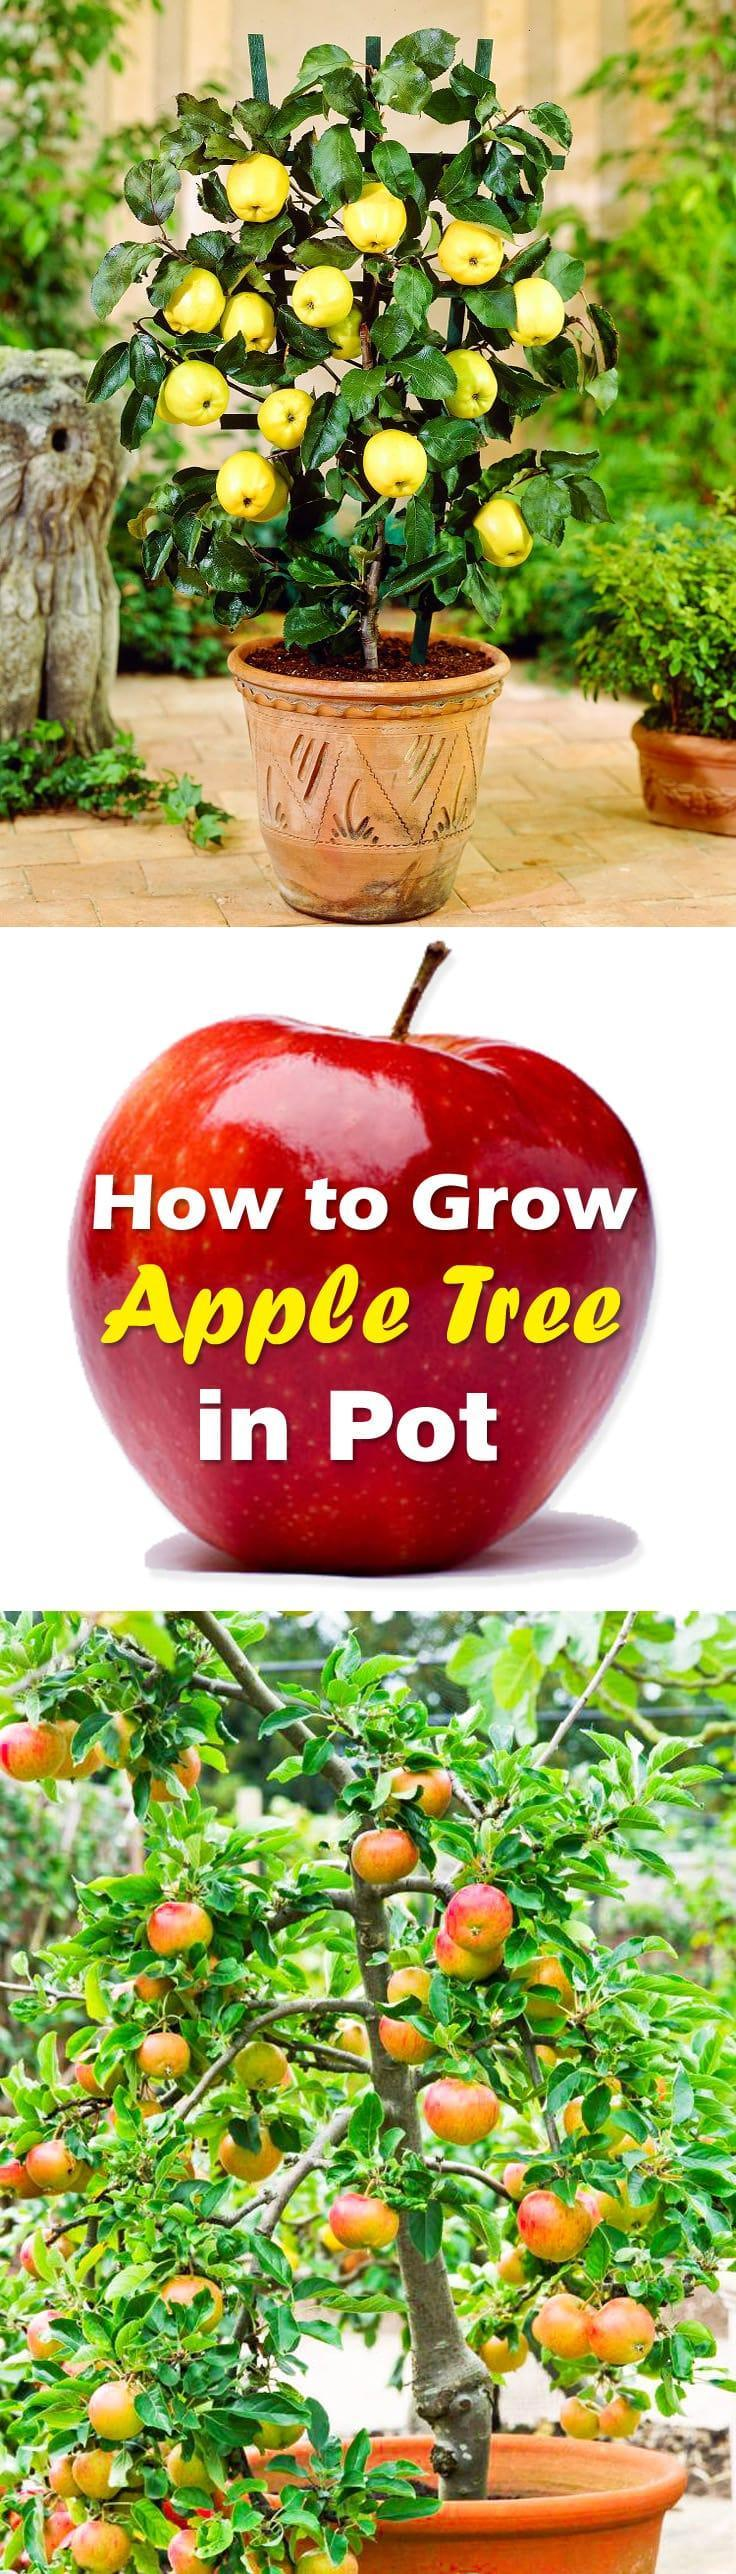apple: (62, 977, 646, 1568), (514, 2188, 591, 2264), (421, 2080, 503, 2146), (439, 1881, 513, 1950), (509, 1953, 577, 2021), (123, 1745, 200, 1802), (327, 2192, 399, 2252), (352, 1824, 419, 1885), (2, 1719, 64, 1783), (218, 2124, 284, 2183), (378, 2008, 442, 2065), (146, 1903, 214, 1957), (562, 2091, 628, 2146), (386, 1766, 453, 1816), (26, 2137, 82, 2196), (435, 1930, 499, 1980), (233, 2039, 286, 2091), (135, 2031, 191, 2078), (388, 1968, 439, 2013)
